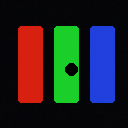2 circle: (65, 63, 77, 75)
